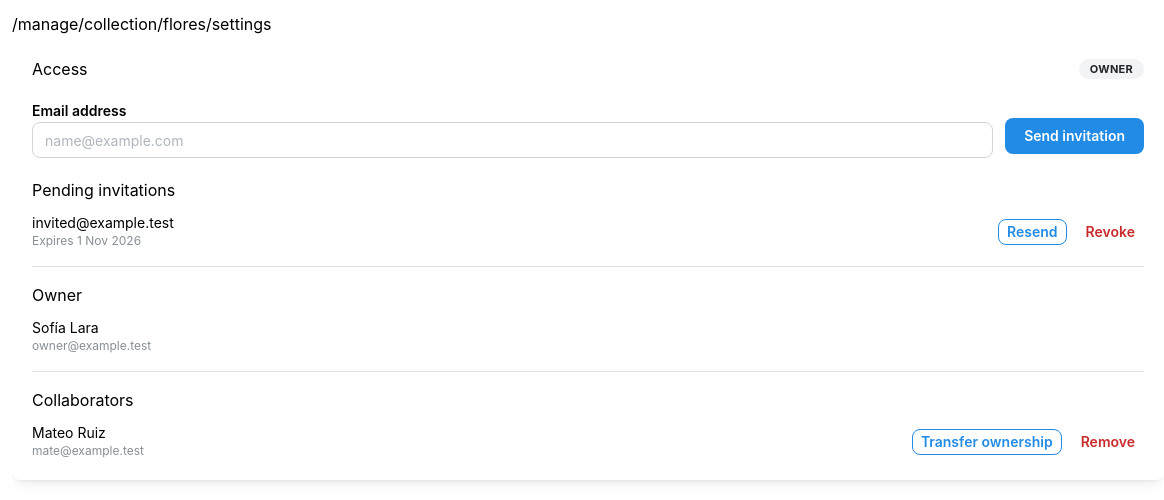
the owner's access card › revokes the offer the click named and drops the row
Click the button "Revoke" at (1110, 232), box [1077, 219, 1144, 245]
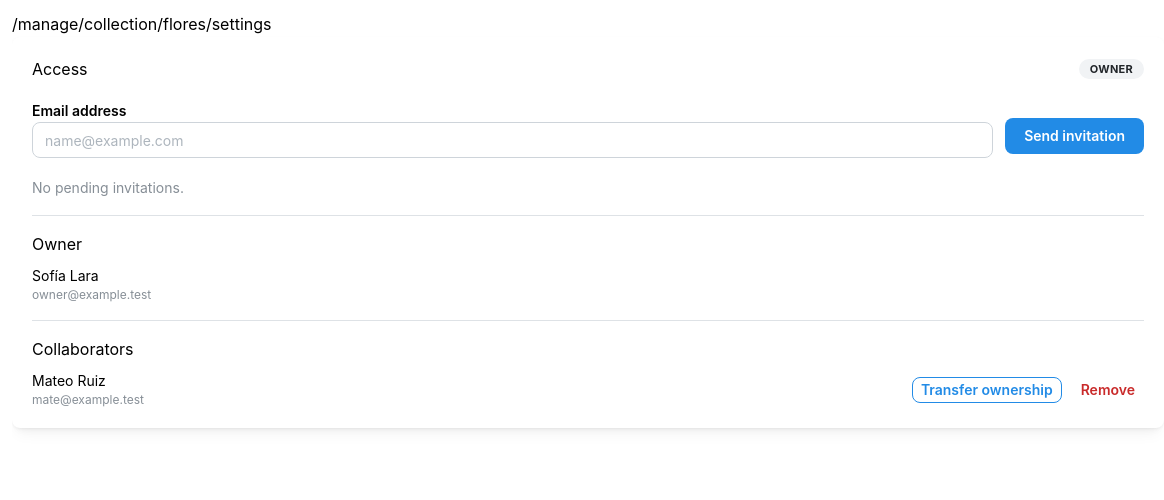
Check: the element with test id "access-invitation-iiiiiiiiiiiiiiiiiiii" is gone
